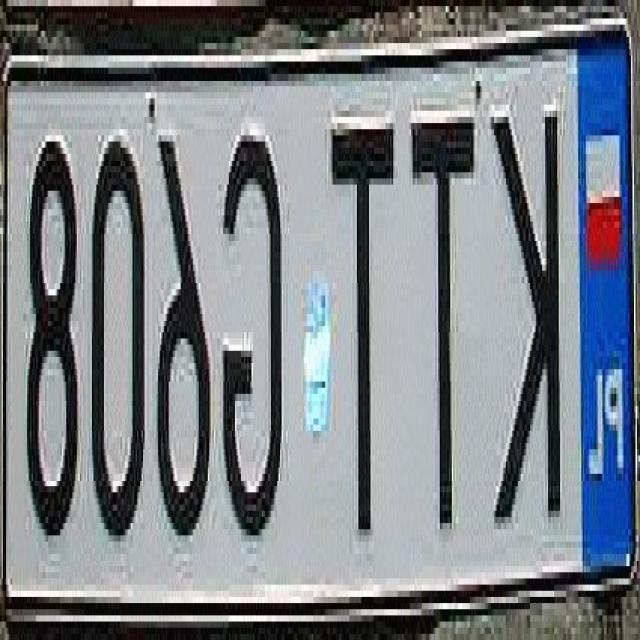pl_license_plate: (6, 25, 631, 603)
